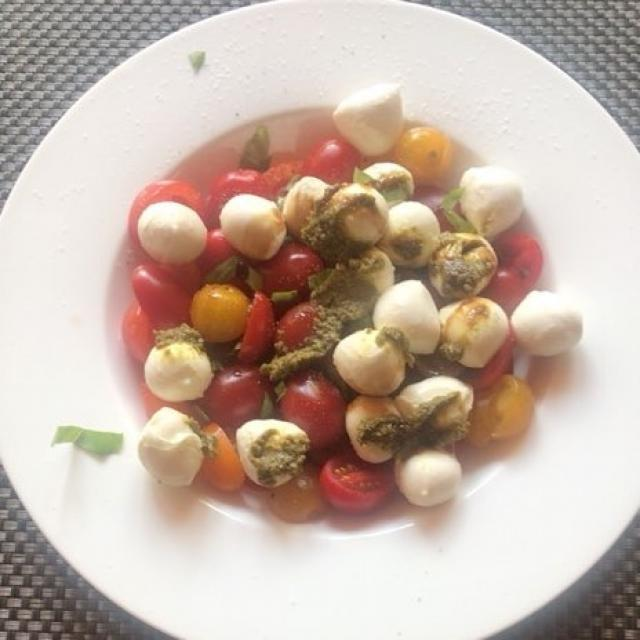salad: (130, 94, 562, 510)
sauce: (150, 162, 492, 490)
